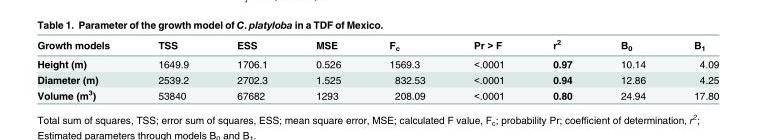table: (36, 37, 718, 100)
table column: (36, 37, 133, 100), (364, 37, 448, 100), (448, 37, 528, 100), (133, 37, 212, 100), (212, 37, 291, 100), (595, 37, 669, 100), (291, 37, 364, 100), (528, 37, 595, 100), (669, 37, 718, 100)
table column header: (36, 37, 718, 54)
table row: (36, 37, 718, 54), (36, 54, 718, 71), (36, 71, 718, 86), (36, 86, 718, 100)
